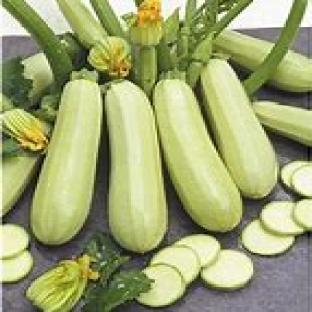Zucchini: (155, 79, 242, 232), (31, 79, 102, 244), (105, 80, 167, 253), (201, 59, 277, 197), (0, 151, 41, 216), (254, 101, 311, 145), (214, 30, 272, 71), (201, 250, 255, 291), (138, 264, 185, 306), (240, 221, 294, 256), (151, 247, 200, 284), (22, 53, 54, 102), (260, 202, 305, 235), (175, 234, 220, 266), (0, 250, 32, 282), (0, 224, 30, 258), (280, 162, 309, 188), (291, 163, 311, 197), (293, 200, 311, 230)
